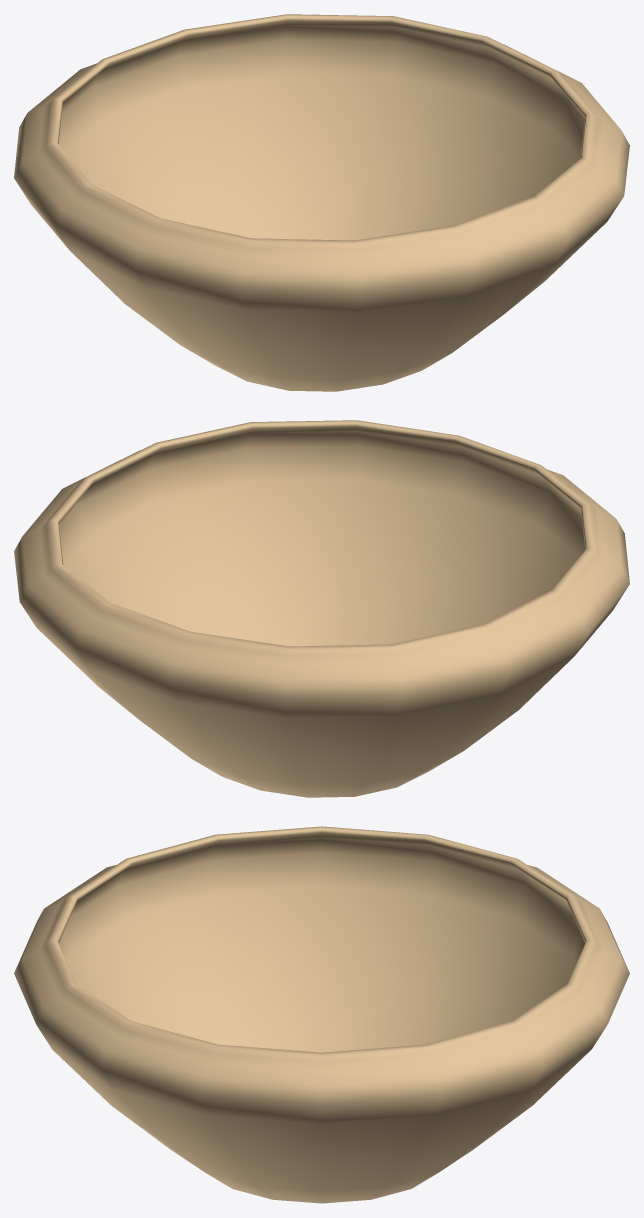
File: LargeBowl.fbx
3 views of the same model, one above another, from view 1: azimuth 30°, elevation 25°; view 2: azimuth 150°, elevation 25°; view 3: azimuth 270°, elevation 25° (orthographic).
Parts seen in each view (by area): view 1: LargeBowl; view 2: LargeBowl; view 3: LargeBowl.
Boxes of the visible parts, <box> form: LargeBowl: <box>14,14,629,391</box>; LargeBowl: <box>14,420,629,797</box>; LargeBowl: <box>14,826,629,1203</box>.
Size of the model in its own units: 37.28 by 14.5 by 37.28.
